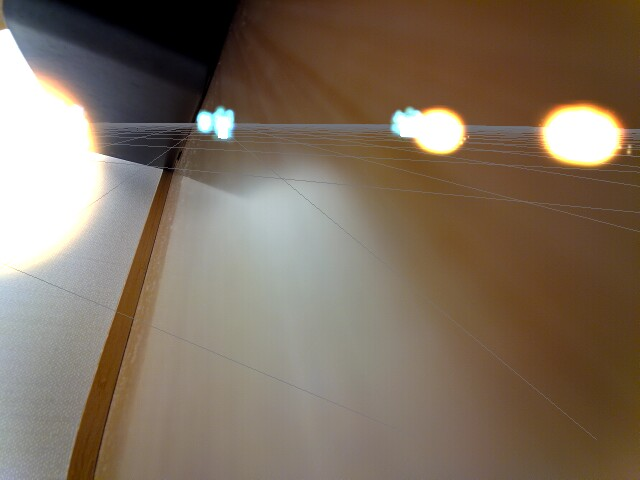firebig: (0, 51, 111, 304)
